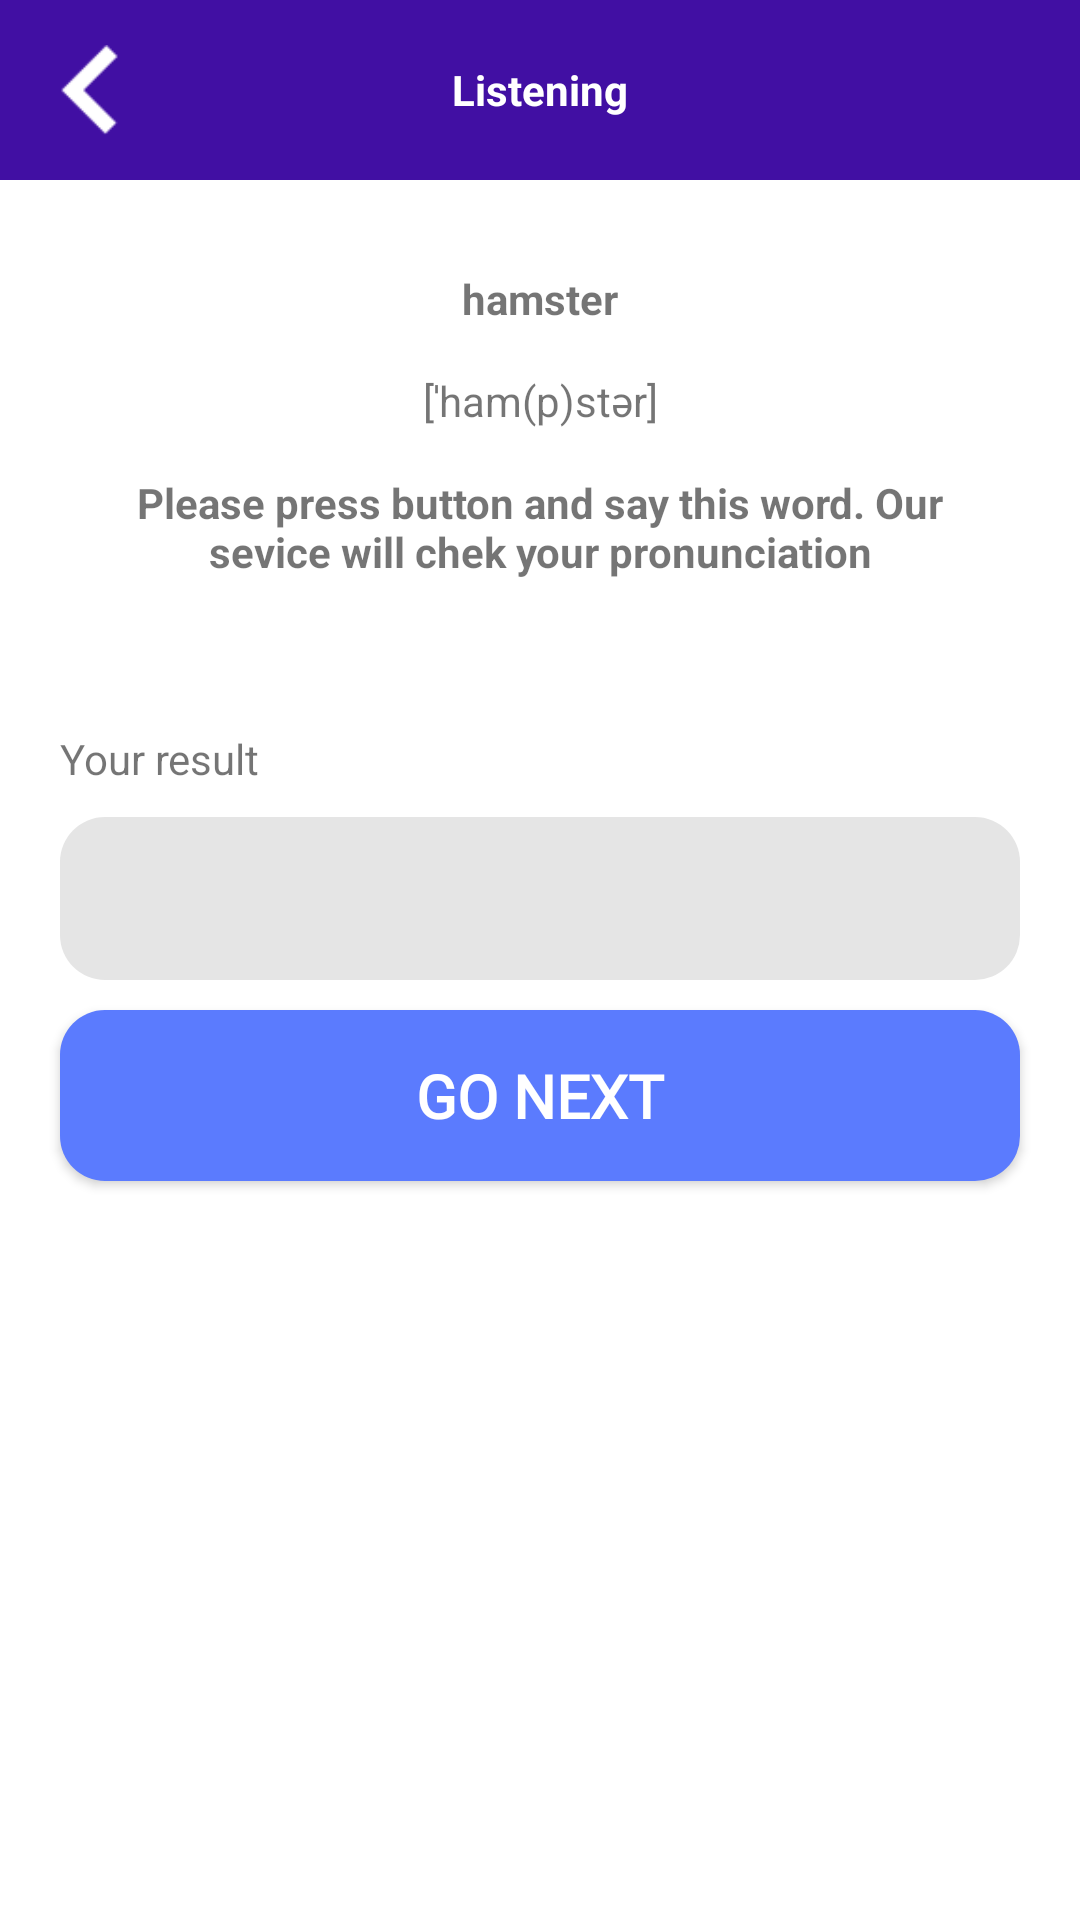

Screen size 1080w x 1920h. Icon name, then its box in pixels as (x1, y1, x2, y2):
back: (61, 45, 118, 134)
